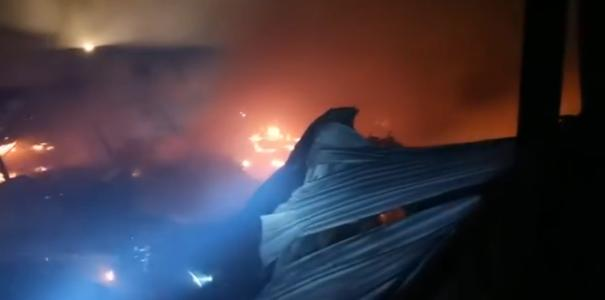fire: (223, 102, 305, 173)
smoke: (276, 8, 492, 97)
